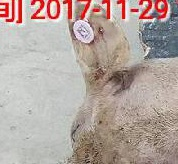text: (64, 15, 103, 51)
